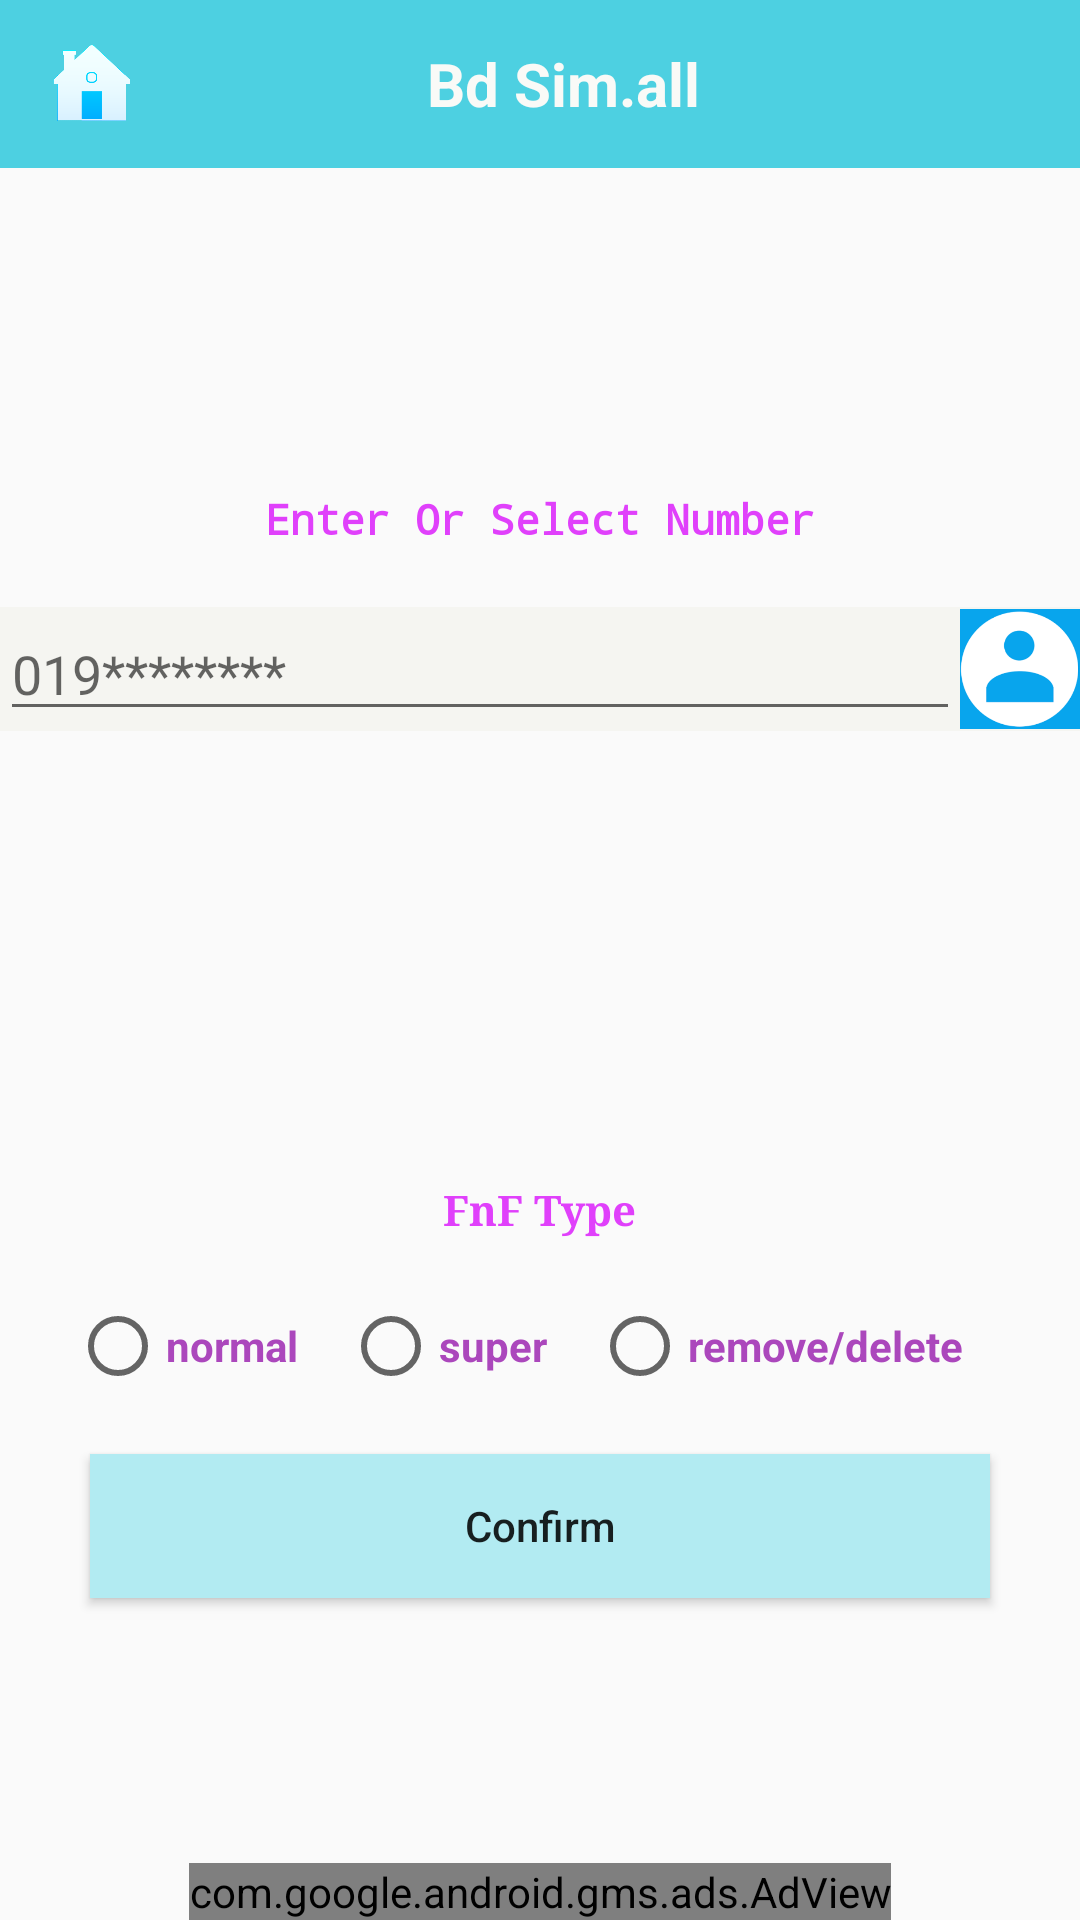

Icon bounding boxes for this 1080px×1920px phone screenshot, format region(x1, y1, x2, y2):
contact: region(960, 609, 1080, 729)
home: region(54, 45, 130, 121)
